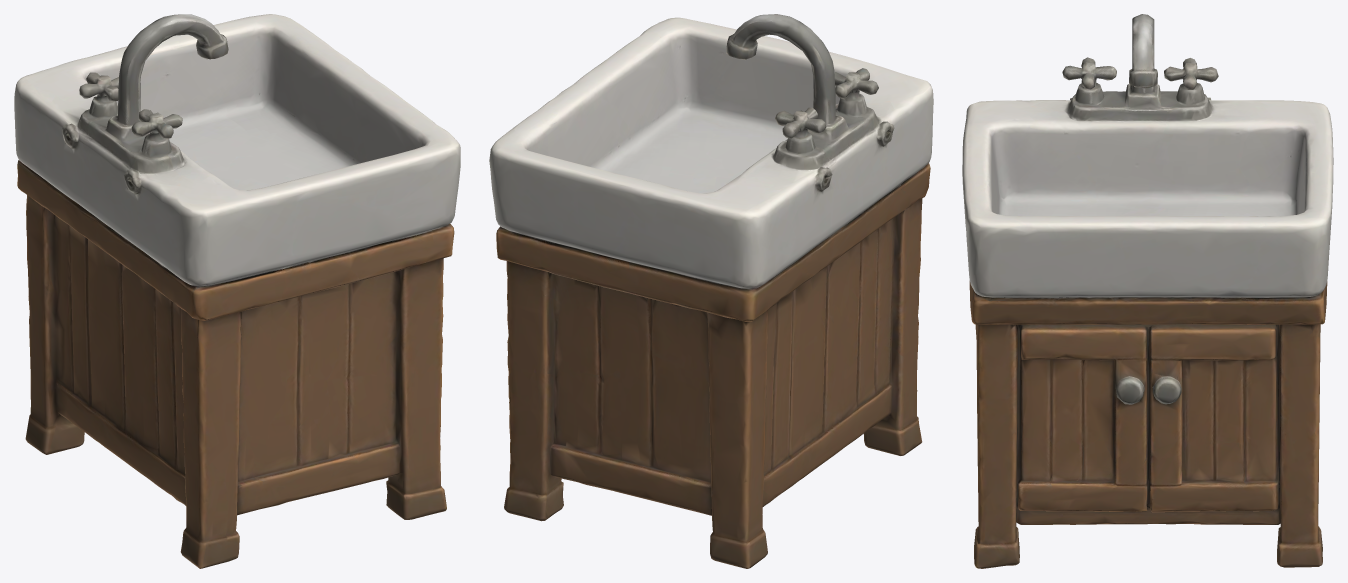
Rendered from pileta.glb.
The picture shows the model from 3 angles, left to right: view 1: azimuth 30°, elevation 25°; view 2: azimuth 150°, elevation 25°; view 3: azimuth 270°, elevation 25°; orthographic projection. The views are drawn at different scales.
Parts seen in each view (by area): view 1: tripo_node_69467c07-cf1c-499e-a6a8-b5429968caba; view 2: tripo_node_69467c07-cf1c-499e-a6a8-b5429968caba; view 3: tripo_node_69467c07-cf1c-499e-a6a8-b5429968caba.
Boxes of the visible parts, x1,y1,x2,y2 form: tripo_node_69467c07-cf1c-499e-a6a8-b5429968caba: (14,14,460,568); tripo_node_69467c07-cf1c-499e-a6a8-b5429968caba: (489,14,933,568); tripo_node_69467c07-cf1c-499e-a6a8-b5429968caba: (962,14,1333,568).
Size of the model in its own units: 0.6187 by 1 by 0.7285.
Materials: 1 (1 with a texture image).
